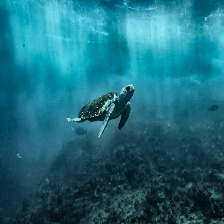seaturtle: (66, 84, 135, 139)
